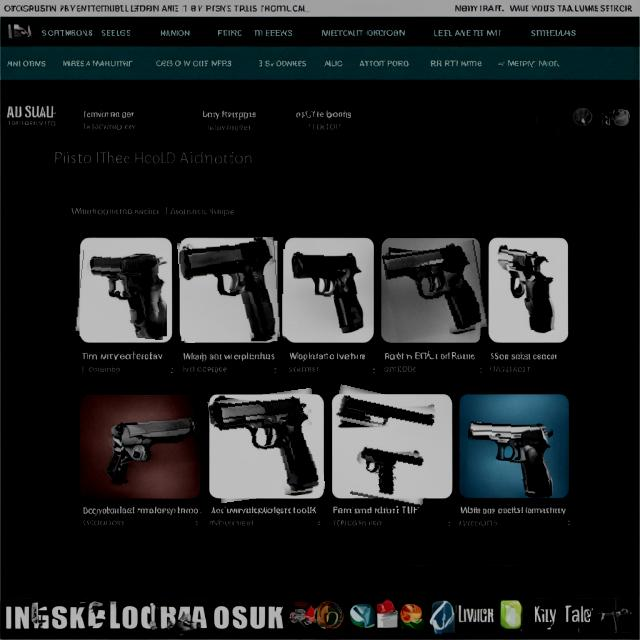gun: (211, 394, 325, 494), (179, 242, 280, 340), (382, 244, 488, 333), (82, 250, 167, 340), (282, 249, 366, 338), (106, 411, 194, 490), (469, 421, 553, 498), (496, 244, 559, 331), (333, 385, 445, 431), (355, 443, 431, 503)
